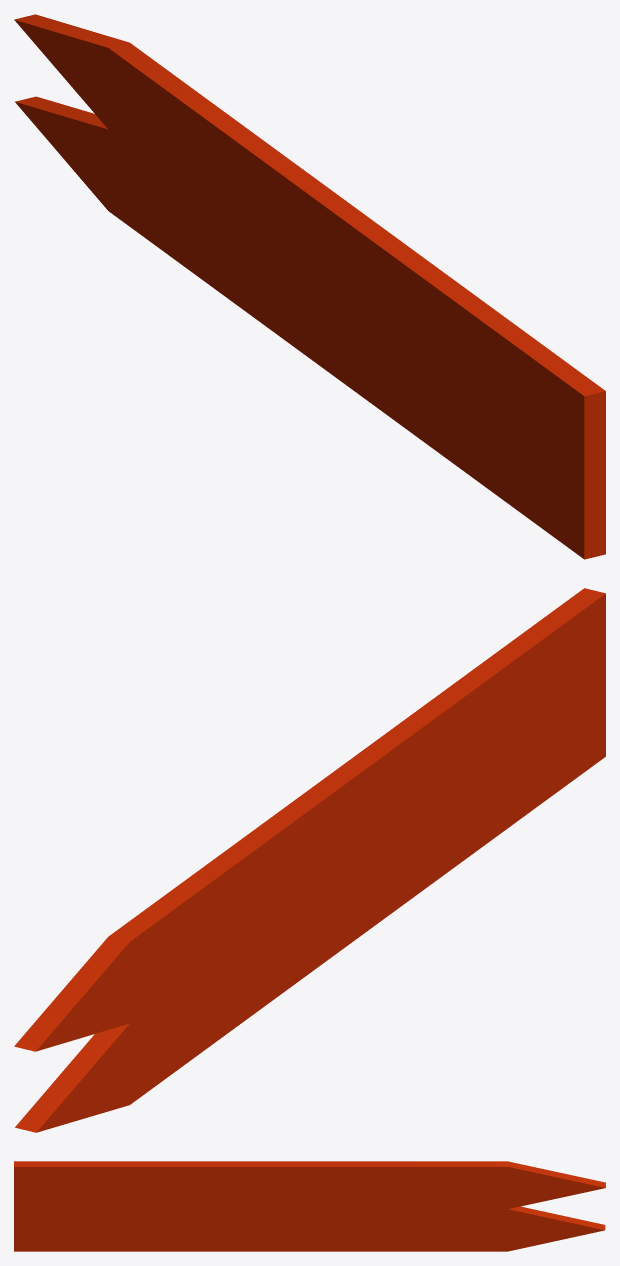
File: flag.fbx
The picture shows the model from 3 angles, top to bottom: view 1: azimuth 30°, elevation 25°; view 2: azimuth 150°, elevation 25°; view 3: azimuth 270°, elevation 25°; orthographic projection. The views are drawn at different scales.
Visible parts, largest first — view 1: flag:pasted__pCube27; view 2: flag:pasted__pCube27; view 3: flag:pasted__pCube27.
Boxes of the visible parts, x1,y1,x2,y2 form: flag:pasted__pCube27: (14,14,605,559); flag:pasted__pCube27: (14,588,605,1132); flag:pasted__pCube27: (14,1161,605,1251).
Size of the model in its own units: 1.97 by 14.31 by 90.66.
Materials: 1 (1 with a texture image).
